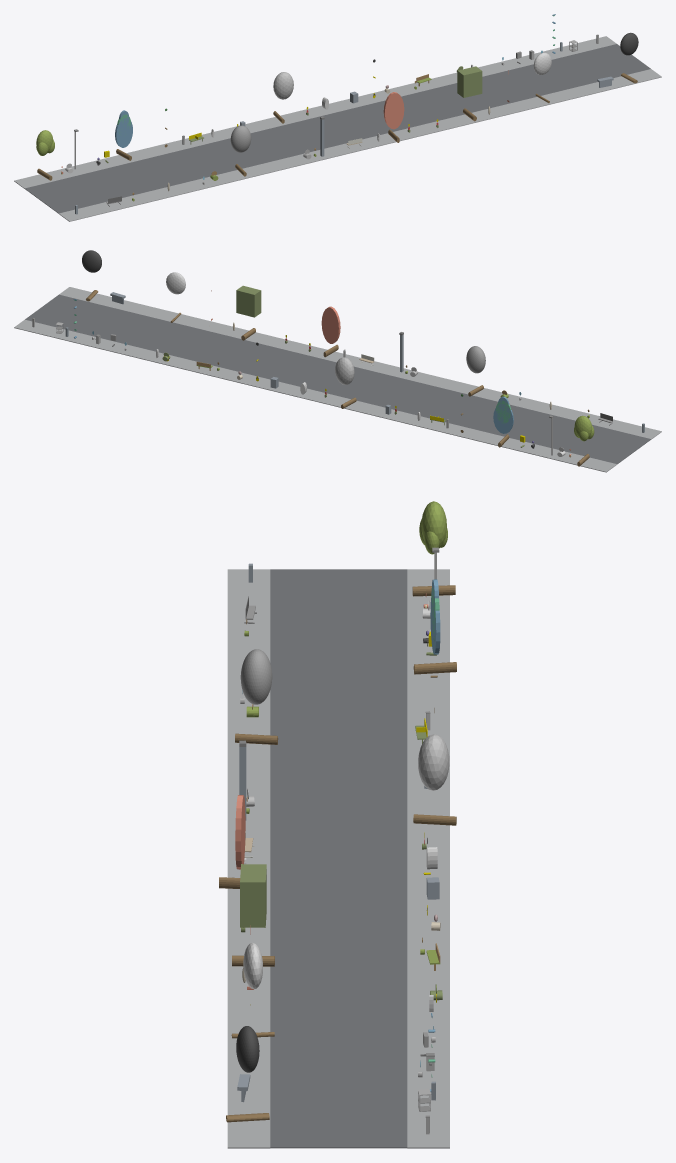
The picture shows the model from 3 angles, top to bottom: view 1: azimuth 30°, elevation 25°; view 2: azimuth 150°, elevation 25°; view 3: azimuth 270°, elevation 25°; orthographic projection. The views are drawn at different scales.
Visible parts, largest first — view 1: road_slab, sidewalk_left, sidewalk_right, inst_0023, inst_0022, inst_0019, inst_0021, inst_0020, inst_0018, inst_0025, inst_0024; view 2: road_slab, sidewalk_right, sidewalk_left, inst_0023, inst_0022, inst_0019, inst_0021, inst_0020, inst_0018, inst_0025, inst_0024; view 3: road_slab, sidewalk_right, sidewalk_left, inst_0023, inst_0021, inst_0020, inst_0018, inst_0025, inst_0019, inst_0022.
Boxes of the visible parts, bbox=[...] form: road_slab: bbox=[24, 44, 650, 213]; sidewalk_left: bbox=[59, 69, 661, 221]; sidewalk_right: bbox=[14, 36, 616, 188]; inst_0023: bbox=[457, 66, 482, 121]; inst_0022: bbox=[383, 92, 404, 142]; inst_0019: bbox=[115, 110, 132, 160]; inst_0021: bbox=[273, 72, 293, 123]; inst_0020: bbox=[230, 125, 251, 176]; inst_0018: bbox=[36, 130, 54, 180]; inst_0025: bbox=[620, 32, 638, 83]; inst_0024: bbox=[533, 52, 551, 103]; road_slab: bbox=[25, 294, 651, 464]; sidewalk_right: bbox=[14, 319, 616, 472]; sidewalk_left: bbox=[59, 287, 661, 439]; inst_0023: bbox=[236, 285, 261, 340]; inst_0022: bbox=[321, 306, 340, 357]; inst_0019: bbox=[493, 396, 513, 447]; inst_0021: bbox=[335, 357, 356, 408]; inst_0020: bbox=[466, 346, 485, 396]; inst_0018: bbox=[574, 415, 594, 466]; inst_0025: bbox=[82, 250, 101, 301]; inst_0024: bbox=[166, 272, 185, 322]; road_slab: bbox=[270, 569, 407, 1148]; sidewalk_right: bbox=[407, 569, 449, 1148]; sidewalk_left: bbox=[227, 569, 270, 1148]; inst_0023: bbox=[232, 864, 274, 966]; inst_0021: bbox=[413, 734, 456, 825]; inst_0020: bbox=[235, 649, 278, 744]; inst_0018: bbox=[412, 501, 455, 596]; inst_0025: bbox=[226, 1026, 269, 1122]; inst_0019: bbox=[413, 579, 456, 674]; inst_0022: bbox=[219, 795, 245, 888].
Bounding box in the file's own units: 80 × 6.08 × 13.93.
